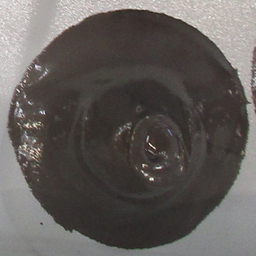perfect: (6, 5, 251, 250)
